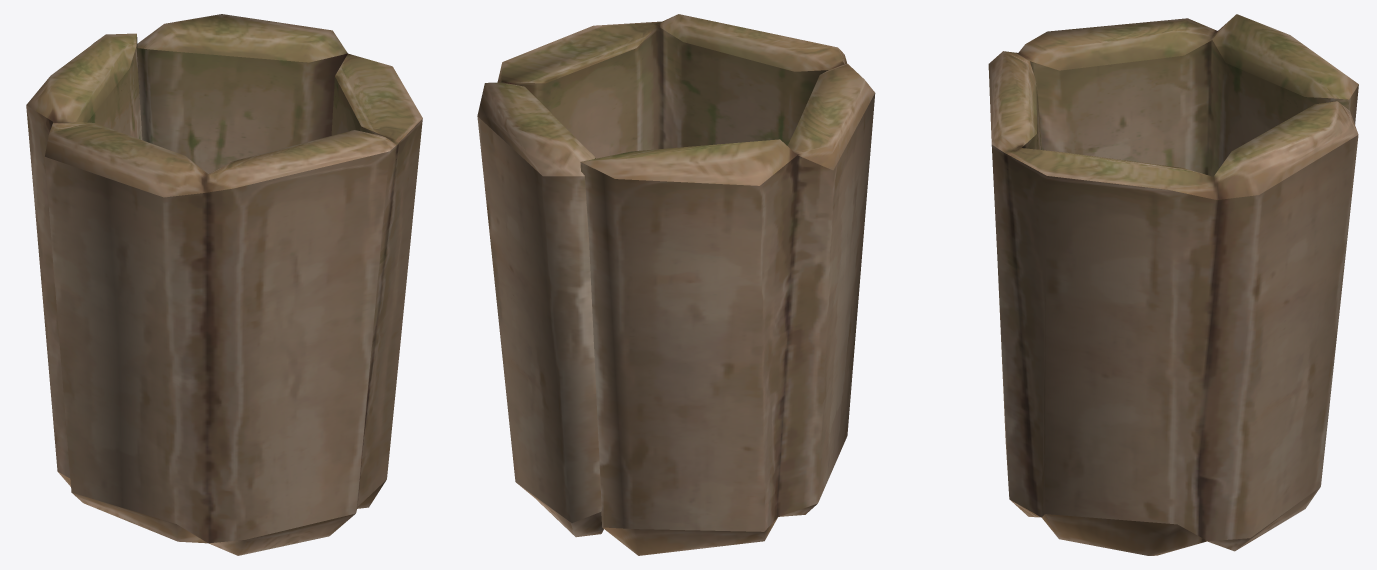
Rendered from Bucket.fbx.
3 views of the same model, side by side, from view 1: azimuth 30°, elevation 25°; view 2: azimuth 150°, elevation 25°; view 3: azimuth 270°, elevation 25° (orthographic).
Parts seen in each view (by area): view 1: Bucket; view 2: Bucket; view 3: Bucket.
Part boxes in pixels (bbox=[...]): Bucket: bbox=[26, 14, 422, 555]; Bucket: bbox=[477, 14, 875, 555]; Bucket: bbox=[988, 14, 1358, 555].
Size of the model in its own units: 0.4272 by 0.4511 by 0.4203.
